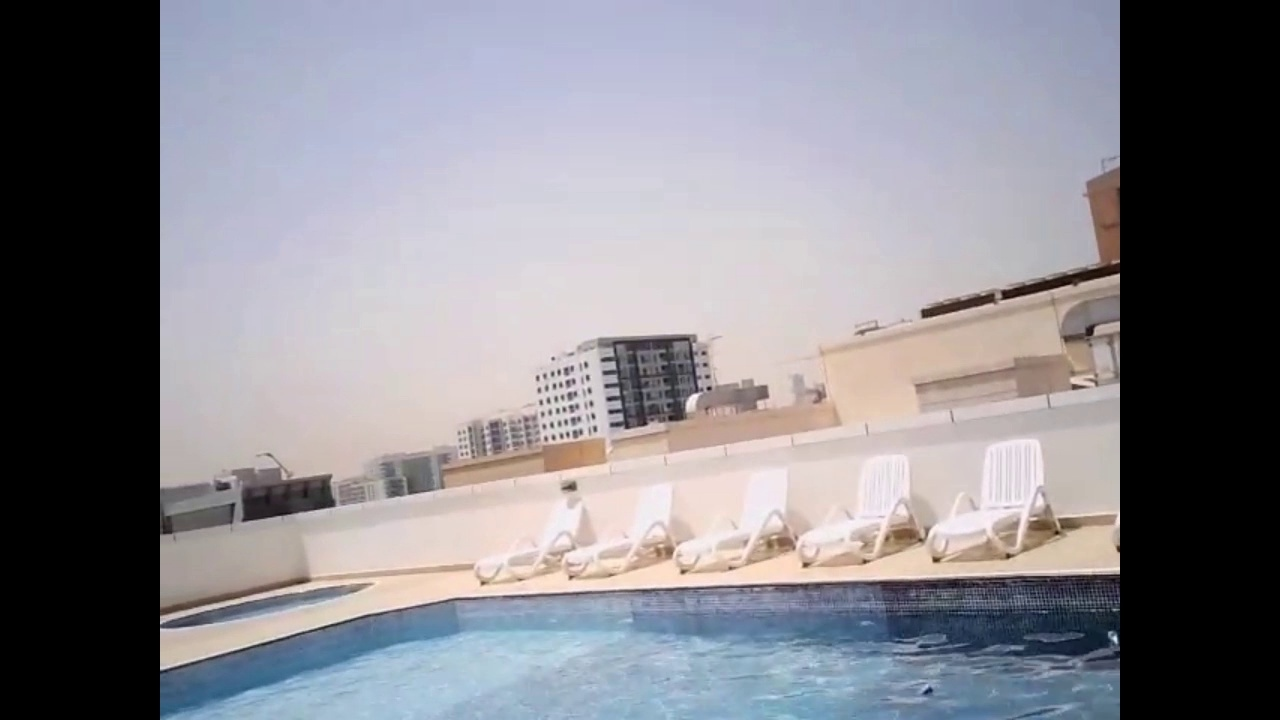debris: (918, 681, 943, 704), (1104, 627, 1118, 652)
